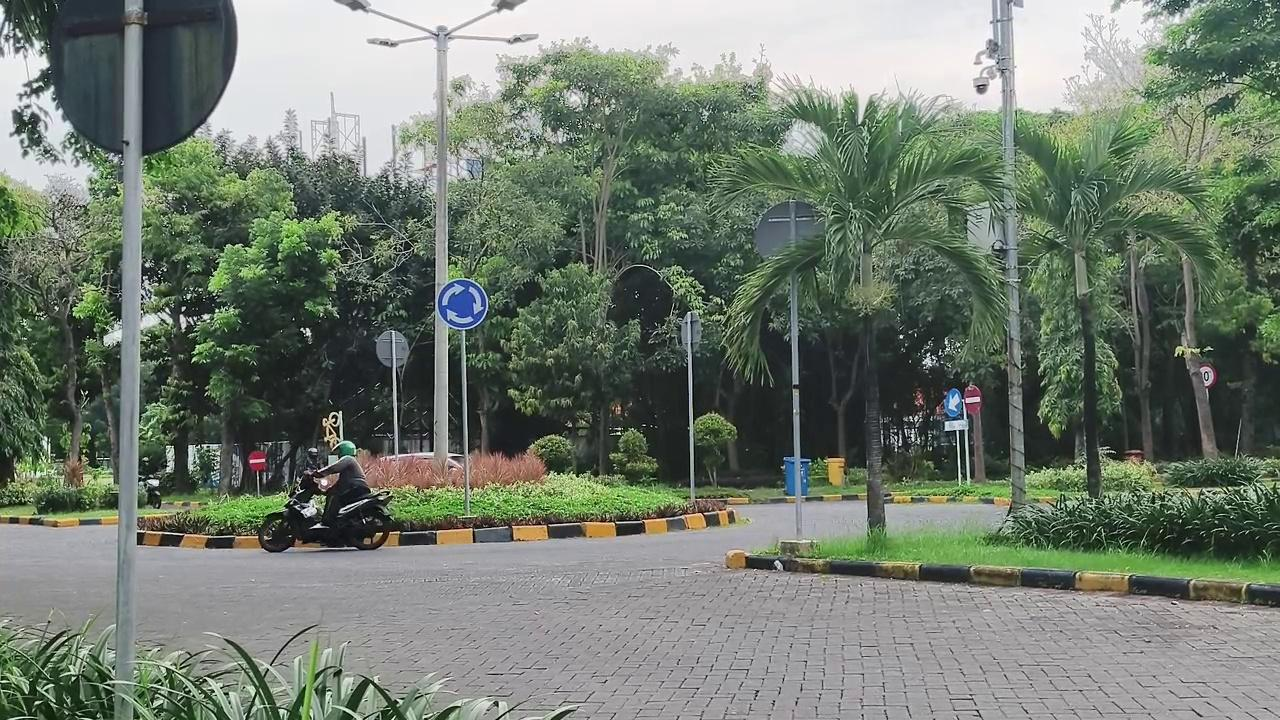Helmet: (304, 441, 370, 526)
Motor: (258, 482, 391, 552), (145, 478, 162, 509)
